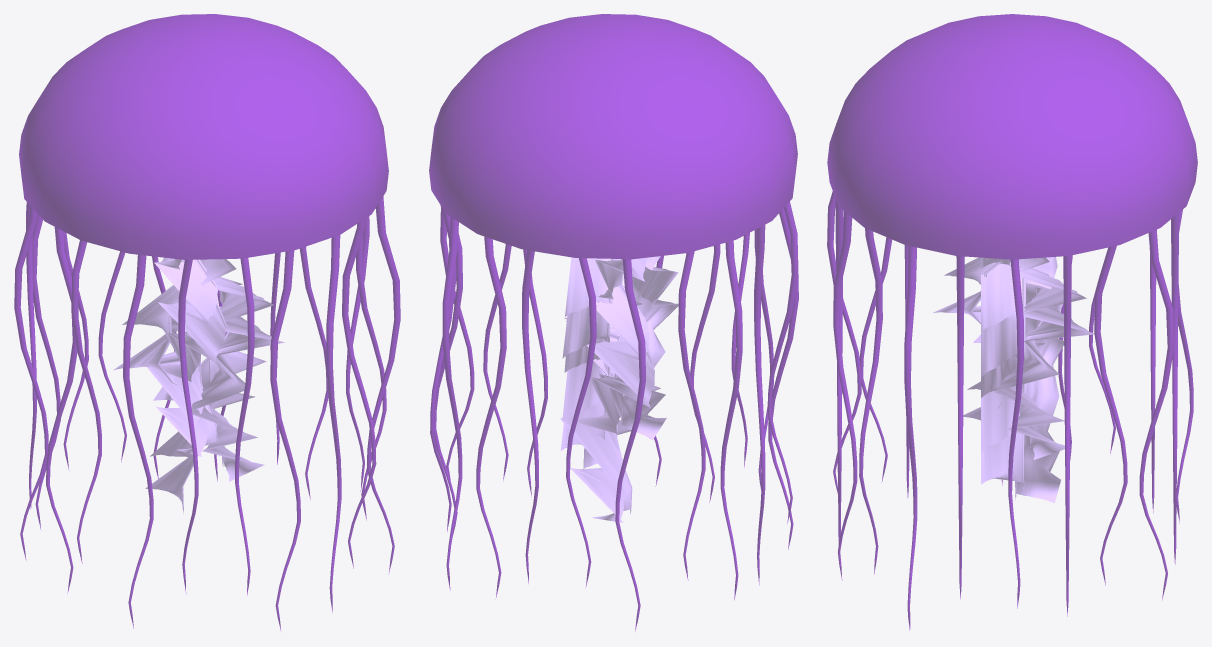
The model's file is jellyfish1.glb.
The picture shows the model from 3 angles, left to right: view 1: azimuth 30°, elevation 25°; view 2: azimuth 150°, elevation 25°; view 3: azimuth 270°, elevation 25°; orthographic projection.
Parts seen in each view (by area): view 1: pCylinder22, pPlane6, pPlane4, pPlane5, pPlane7; view 2: pCylinder22, pPlane5, pPlane7, pPlane6, pPlane4; view 3: pCylinder22, pPlane4, pPlane7, pPlane5, pPlane6.
Part boxes in pixels (x1=…): pCylinder22: x1=14, y1=14, x2=400, y2=631; pPlane6: x1=147, y1=259, x2=227, y2=456; pPlane4: x1=191, y1=259, x2=284, y2=481; pPlane5: x1=113, y1=257, x2=193, y2=514; pPlane7: x1=185, y1=280, x2=266, y2=425; pCylinder22: x1=429, y1=14, x2=798, y2=631; pPlane5: x1=560, y1=257, x2=654, y2=522; pPlane7: x1=560, y1=257, x2=612, y2=450; pPlane6: x1=615, y1=256, x2=678, y2=440; pPlane4: x1=564, y1=258, x2=660, y2=468; pCylinder22: x1=827, y1=14, x2=1197, y2=630; pPlane4: x1=981, y1=257, x2=1025, y2=488; pPlane7: x1=994, y1=257, x2=1094, y2=459; pPlane5: x1=1009, y1=257, x2=1063, y2=502; pPlane6: x1=933, y1=257, x2=1044, y2=420.
Size of the model in its own units: 7.11 by 10.99 by 6.94.
